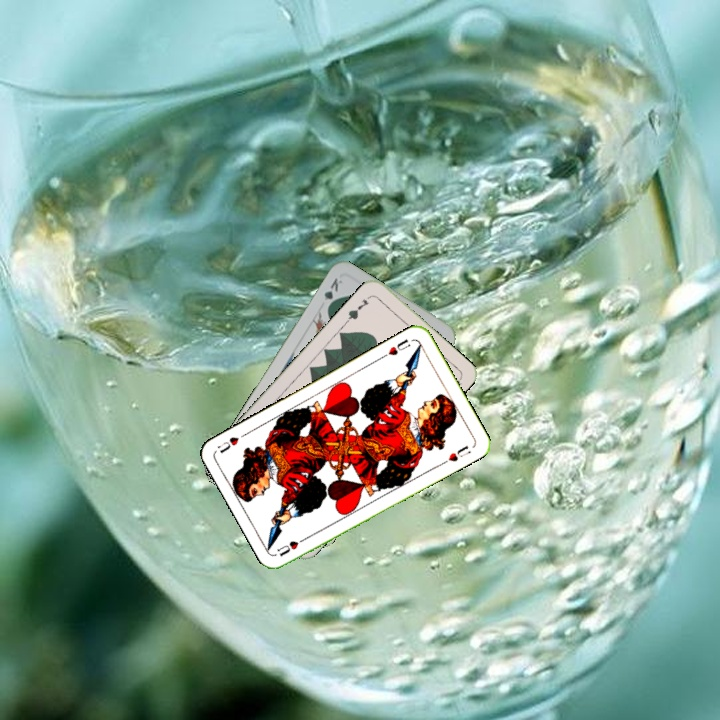G7: (343, 291, 374, 325)
GK: (320, 274, 345, 312)
HU: (273, 533, 310, 559), (378, 334, 413, 360)
